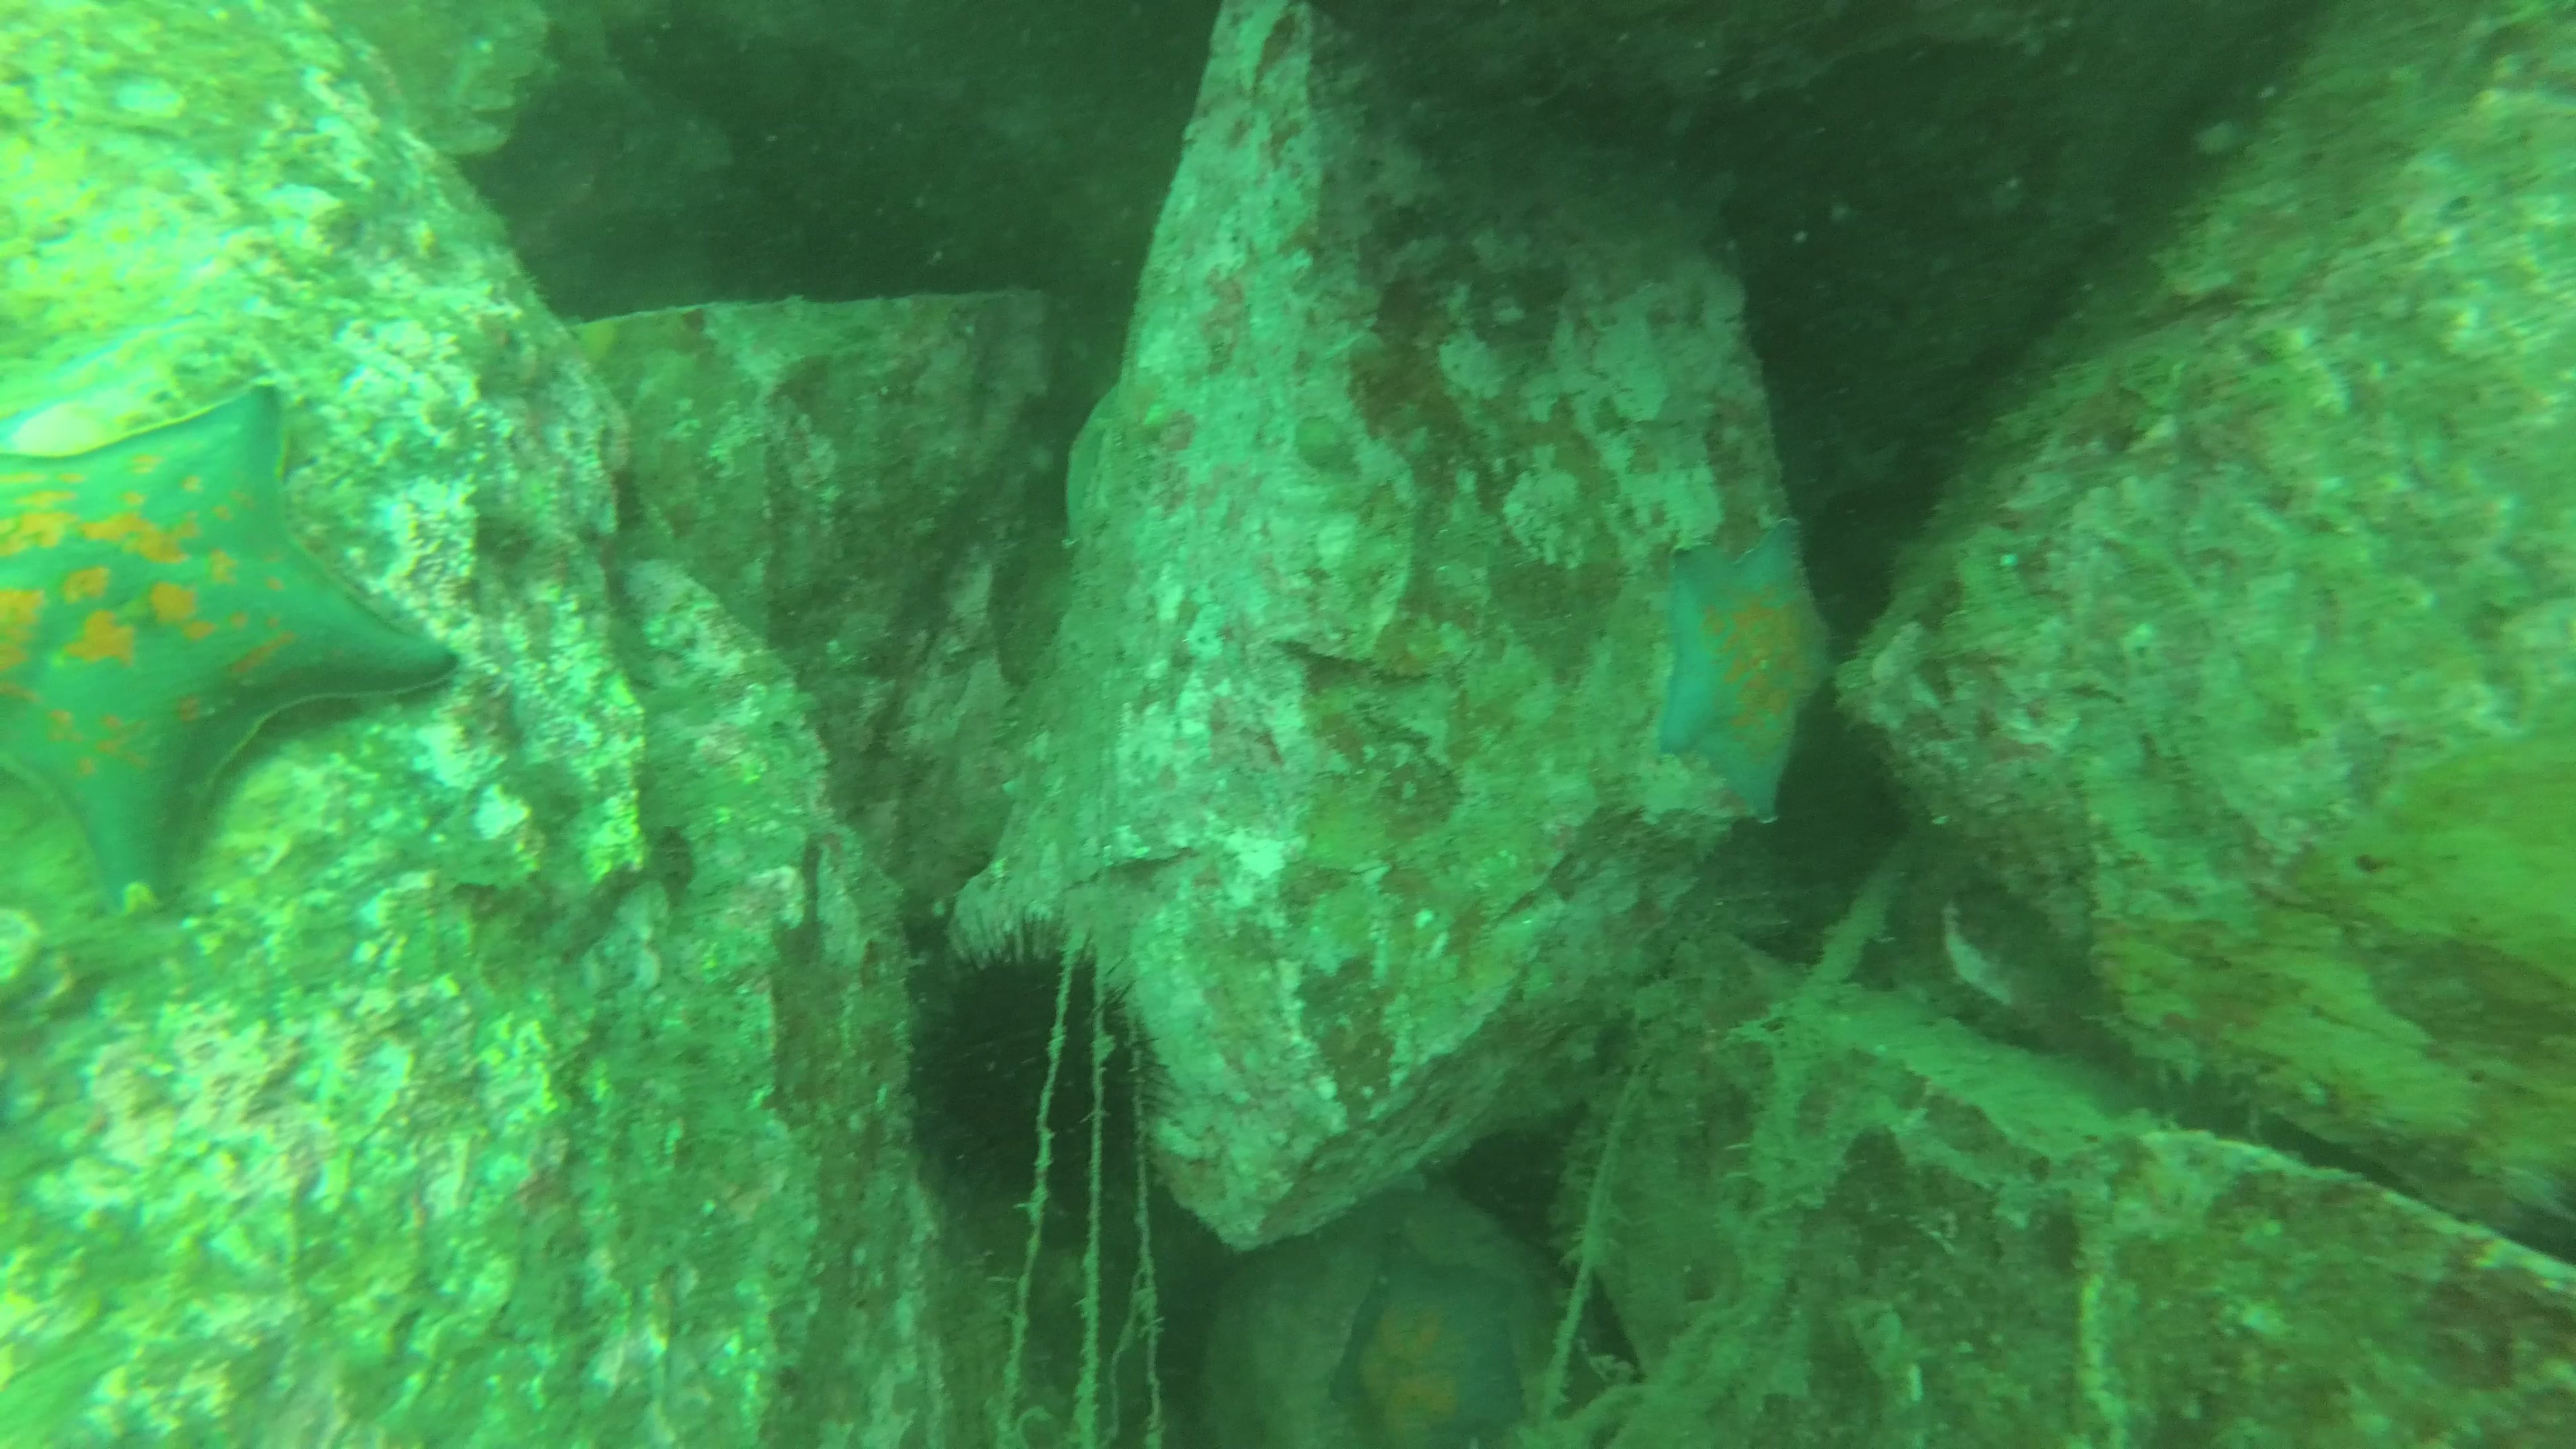echinus: (906, 908, 1180, 1231)
starfish: (0, 379, 462, 918), (1651, 515, 1838, 830), (1323, 1228, 1532, 1449)
